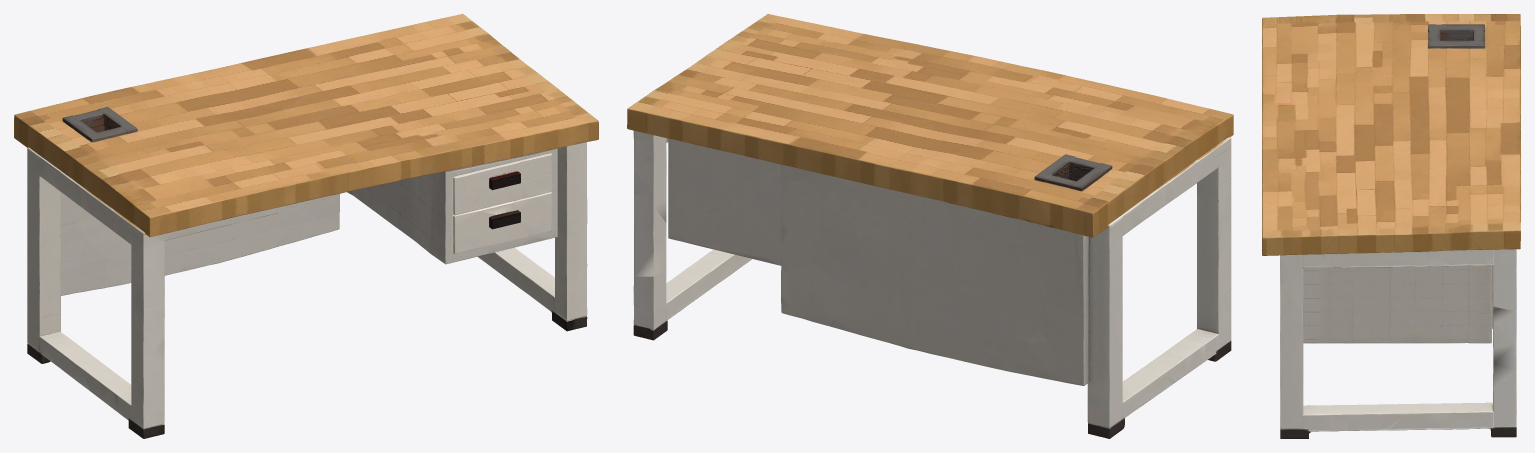
Rendered from work_desk.glb.
3 views of the same model, side by side, from view 1: azimuth 30°, elevation 25°; view 2: azimuth 150°, elevation 25°; view 3: azimuth 270°, elevation 25° (orthographic). The views are drawn at different scales.
Size of the model in its own units: 2 by 0.9838 by 1.04.
1 material, 1 textured.
